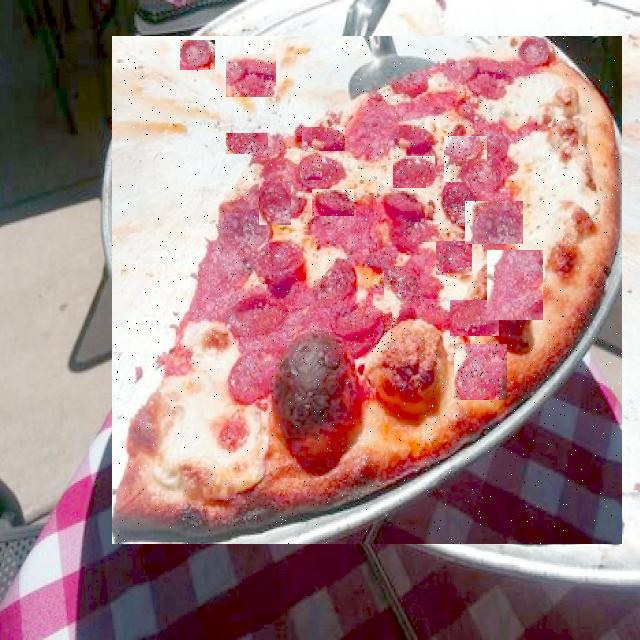Pepperoni: (487, 250, 543, 320), (454, 344, 507, 400), (465, 201, 523, 244), (226, 54, 276, 97), (444, 136, 487, 182), (351, 312, 395, 353), (450, 300, 499, 336), (436, 189, 481, 224), (259, 181, 291, 225), (384, 266, 420, 304), (393, 156, 435, 188), (436, 241, 472, 275), (312, 190, 354, 218), (231, 157, 260, 195), (180, 40, 215, 70), (302, 127, 345, 151), (226, 134, 268, 156), (300, 152, 322, 180)
Pizza: (112, 36, 622, 544)
